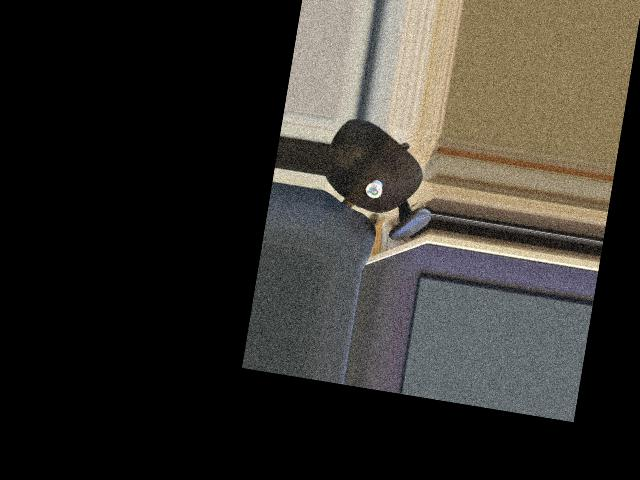cotage: (361, 174, 384, 200)
